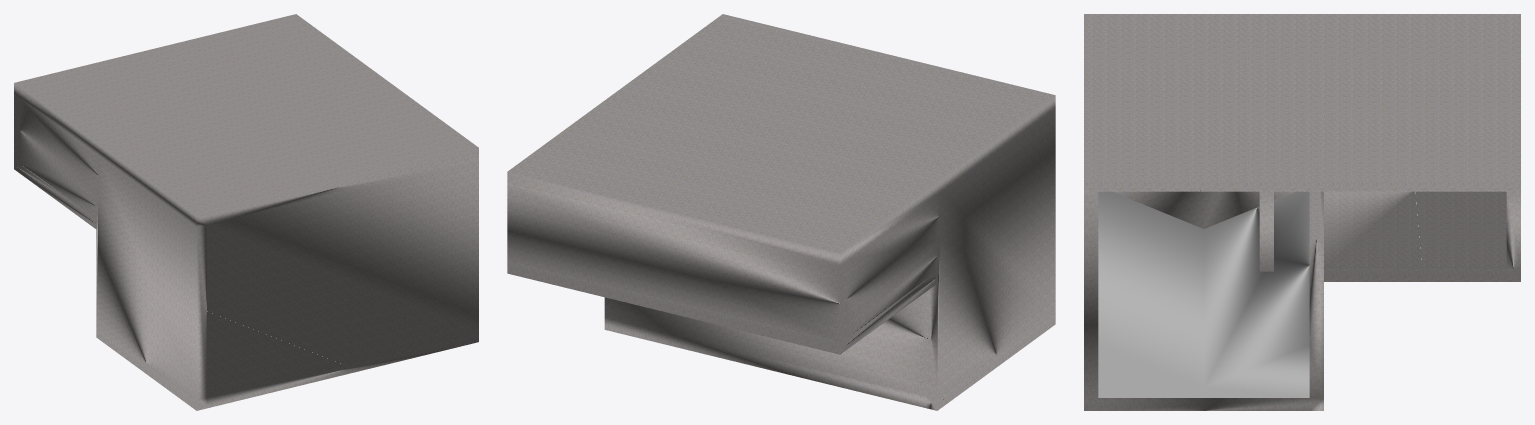
File: deflector.glb
The picture shows the model from 3 angles, left to right: view 1: azimuth 30°, elevation 25°; view 2: azimuth 150°, elevation 25°; view 3: azimuth 270°, elevation 25°; orthographic projection. The views are drawn at different scales.
Parts seen in each view (by area): view 1: Model; view 2: Model; view 3: Model.
Part boxes in pixels (x1,y1,x2,y2): Model: (14,14,478,410); Model: (507,14,1055,410); Model: (1084,14,1520,410).
Size of the model in its own units: 8.21 by 5.4 by 9.2.
Materials: 3 (1 with a texture image).
